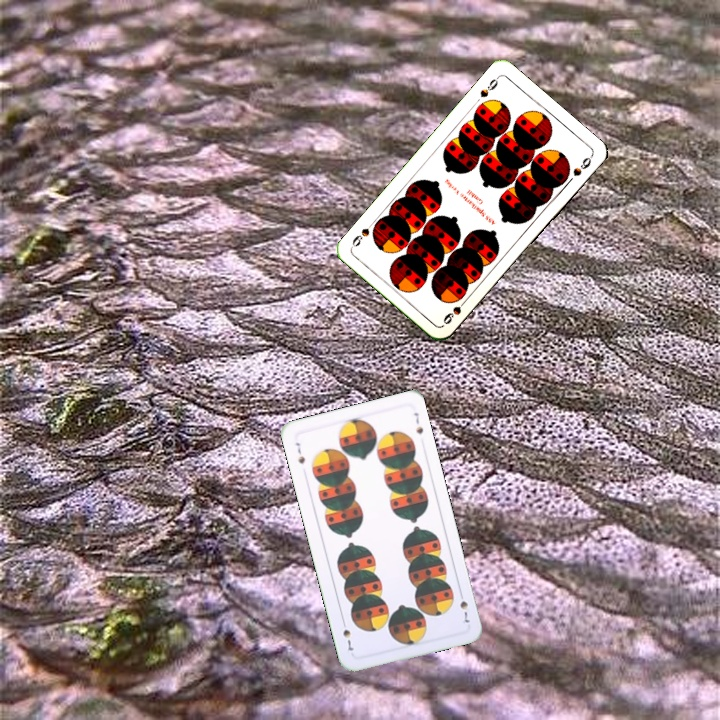S7: (455, 587, 473, 627), (291, 438, 308, 467)
S9: (439, 294, 470, 327), (476, 72, 502, 100)
